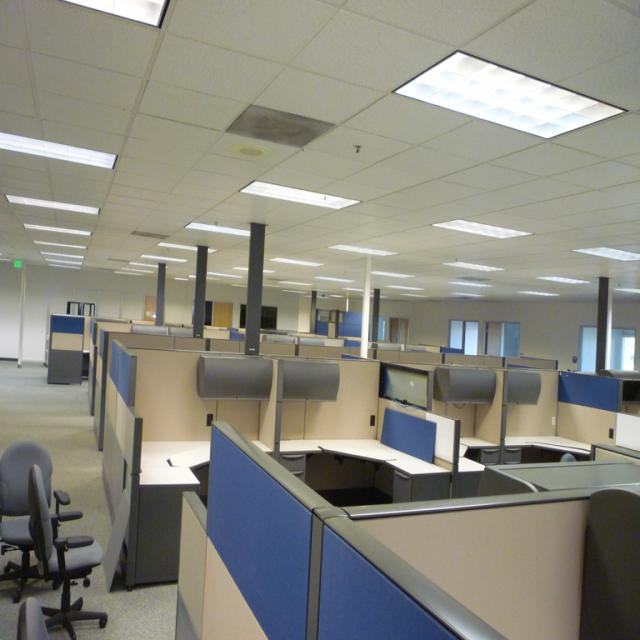chair: (0, 443, 109, 639), (578, 488, 640, 640)
desk: (175, 416, 640, 640)
